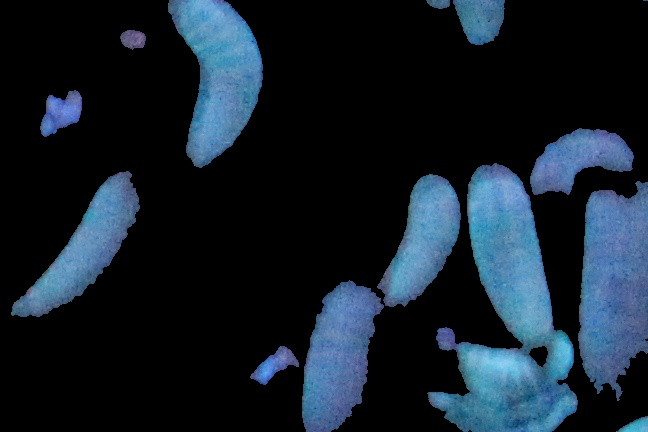larvae: (1, 156, 150, 335), (454, 153, 565, 338), (162, 2, 269, 160), (572, 184, 648, 406), (305, 277, 381, 427), (522, 104, 642, 199), (388, 164, 462, 307), (457, 334, 596, 388)
